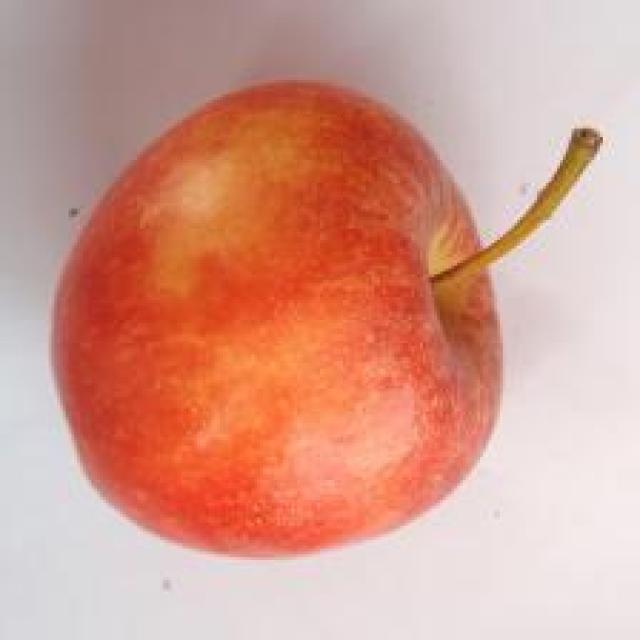apple: (27, 46, 607, 576)
